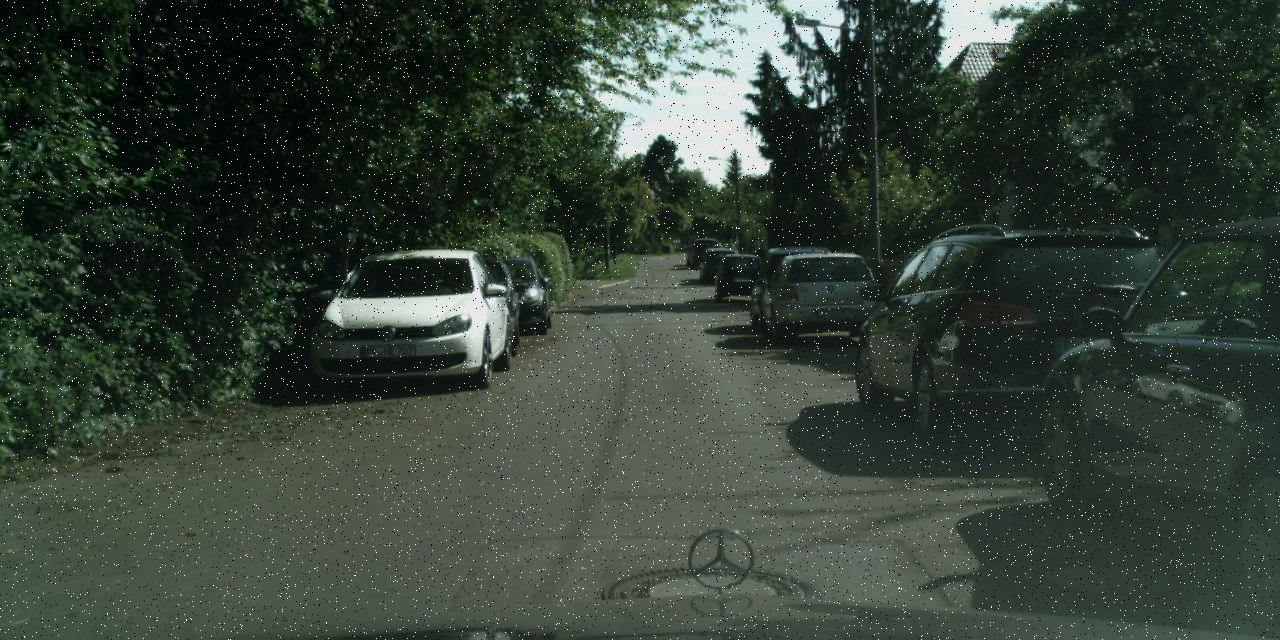ped: (728, 238, 739, 253)
